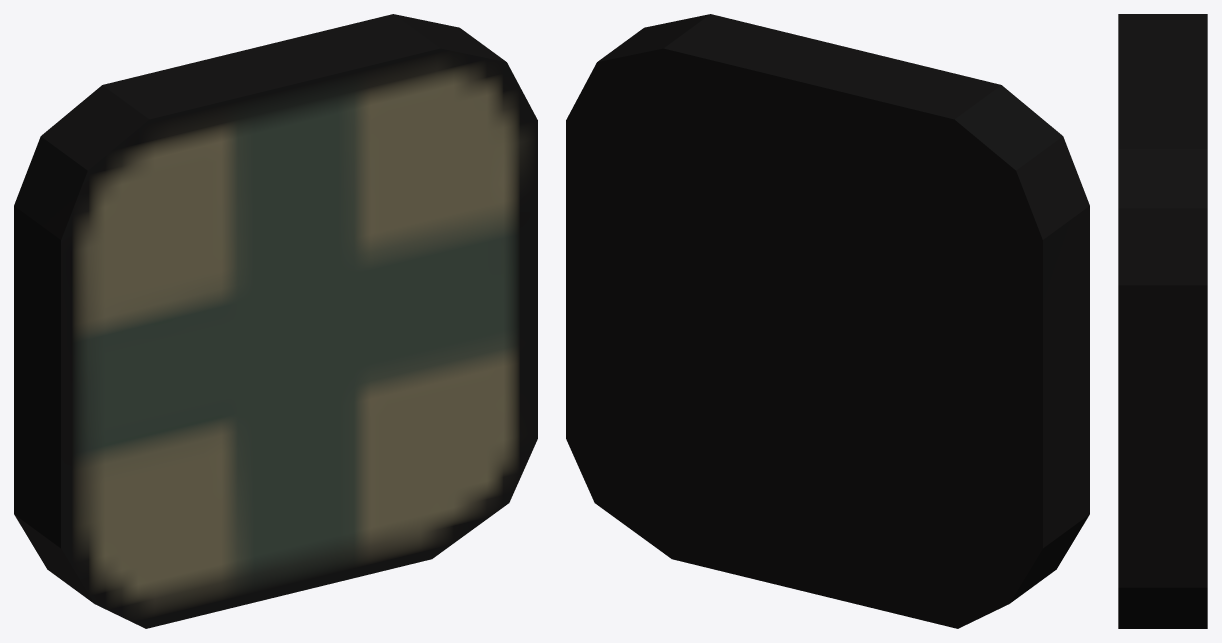
Rendered from SM_Chr_Attach_Patch_Squad_03.fbx.
3 renders of one model, left to right at view 1: azimuth 30°, elevation 25°; view 2: azimuth 150°, elevation 25°; view 3: azimuth 270°, elevation 25°, orthographic. The views are drawn at different scales.
Parts seen in each view (by area): view 1: SM_Chr_Attach_Patch_Squad_03; view 2: SM_Chr_Attach_Patch_Squad_03; view 3: SM_Chr_Attach_Patch_Squad_03.
Boxes of the visible parts, left/top/right/bottom form: SM_Chr_Attach_Patch_Squad_03: left=14, top=14, right=537, bottom=628; SM_Chr_Attach_Patch_Squad_03: left=566, top=14, right=1089, bottom=628; SM_Chr_Attach_Patch_Squad_03: left=1118, top=14, right=1207, bottom=628.
Size of the model in its own units: 5.68 by 5.79 by 0.972.
